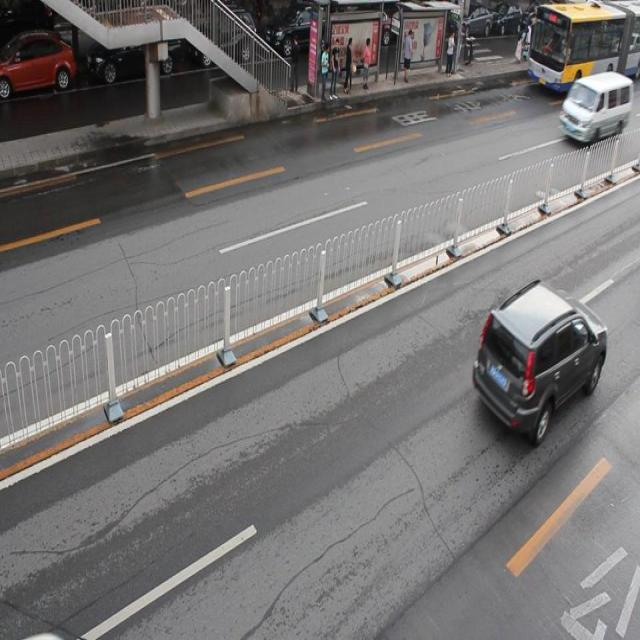car: (472, 279, 607, 433), (84, 26, 180, 85), (1, 33, 76, 100), (186, 1, 255, 66), (262, 1, 331, 59)
truck: (557, 69, 630, 144)
van: (529, 1, 640, 86)
